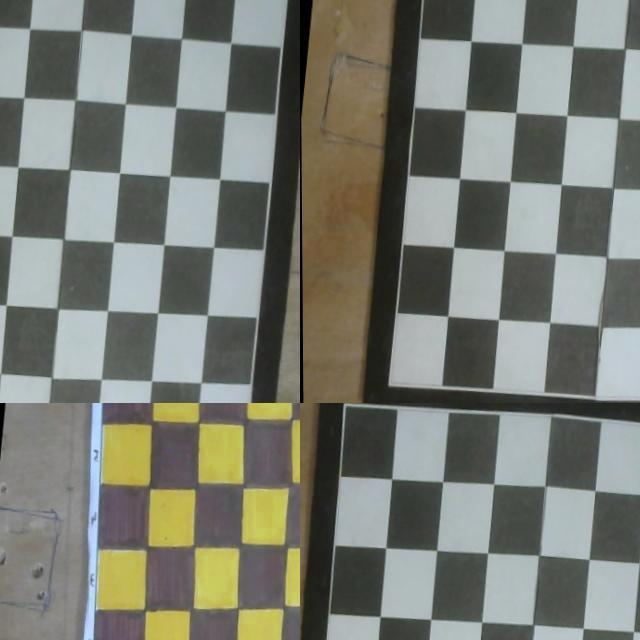chess-table-corners: (386, 381, 392, 389), (431, 0, 439, 4), (341, 403, 346, 407), (285, 0, 291, 3), (104, 403, 108, 407), (0, 0, 3, 4)
